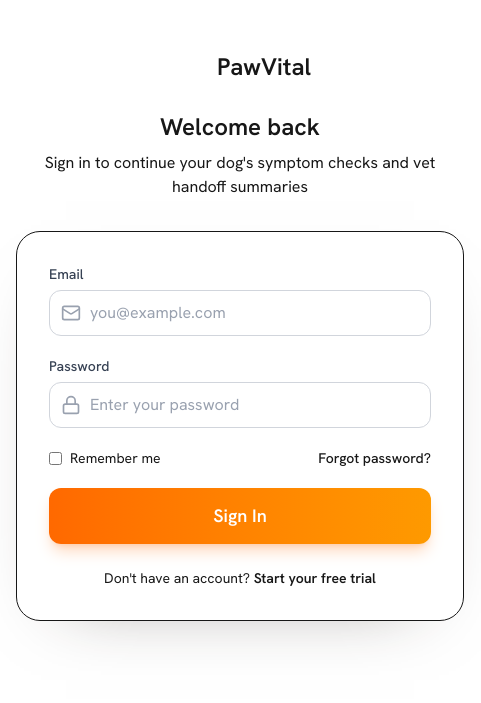
Test: auth page network error handling › shows a friendly login message instead of the raw fetch failure
Type "owner@example.com" into the field with placeholder "you@example.com" at {"x": 240, "y": 313}, box x1=49 y1=290 x2=431 y2=336
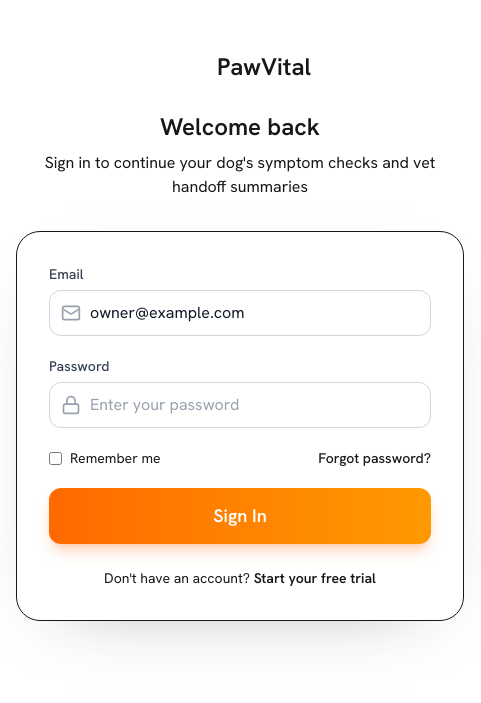
Type "super-secret-password" into the password field with placeholder "Enter your password" at {"x": 240, "y": 405}, box x1=49 y1=382 x2=431 y2=428
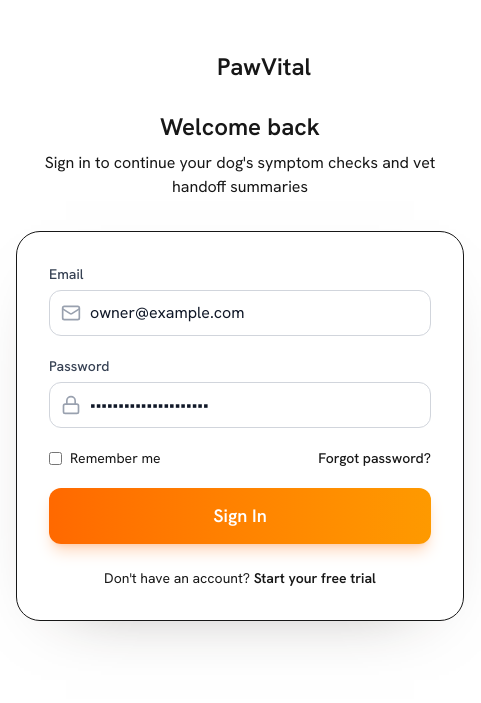
Click the button "Sign In" at {"x": 240, "y": 516}, box x1=49 y1=488 x2=431 y2=544
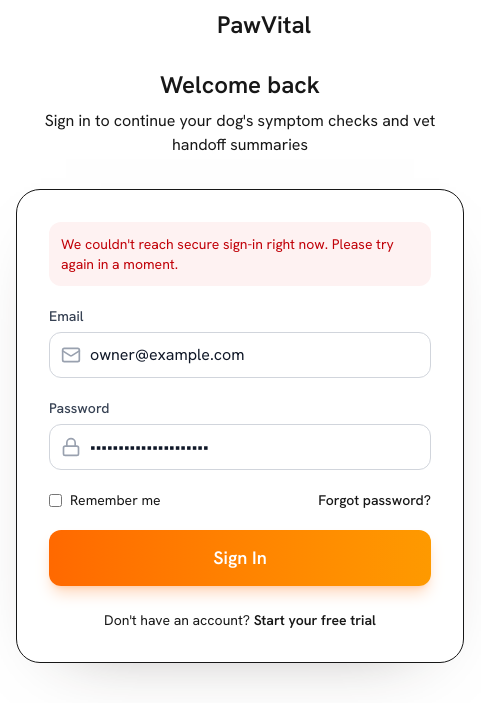
Now the text "We couldn't reach secure sign-in right now. Please try again in a moment." is shown, box x1=49 y1=222 x2=431 y2=286
